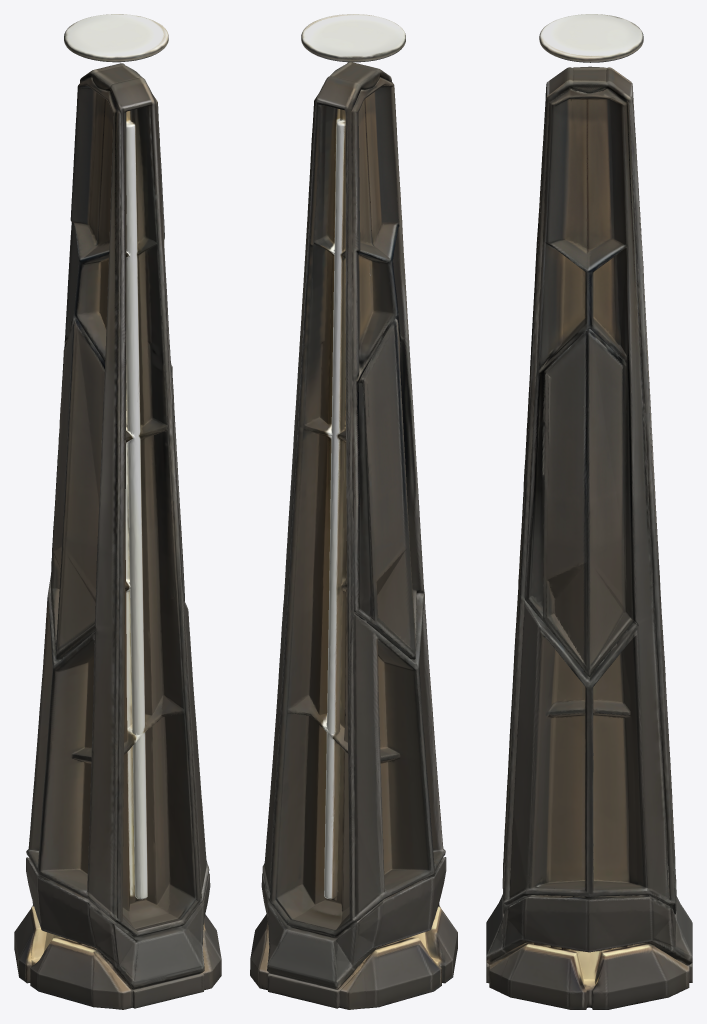
The model's file is lamp-b.glb.
3 views of the same model, side by side, from view 1: azimuth 30°, elevation 25°; view 2: azimuth 150°, elevation 25°; view 3: azimuth 270°, elevation 25° (orthographic).
Visible parts, largest first — view 1: tripo_node_1428d5ed-7c59-4205-88f2-b98401ecebd7; view 2: tripo_node_1428d5ed-7c59-4205-88f2-b98401ecebd7; view 3: tripo_node_1428d5ed-7c59-4205-88f2-b98401ecebd7.
Part boxes in pixels (x1,y1,x2,y2): tripo_node_1428d5ed-7c59-4205-88f2-b98401ecebd7: [14, 14, 221, 1009]; tripo_node_1428d5ed-7c59-4205-88f2-b98401ecebd7: [250, 14, 457, 1009]; tripo_node_1428d5ed-7c59-4205-88f2-b98401ecebd7: [486, 14, 692, 1009].
Size of the model in its own units: 0.1976 by 0.9784 by 0.1966.
1 material, 1 textured.
